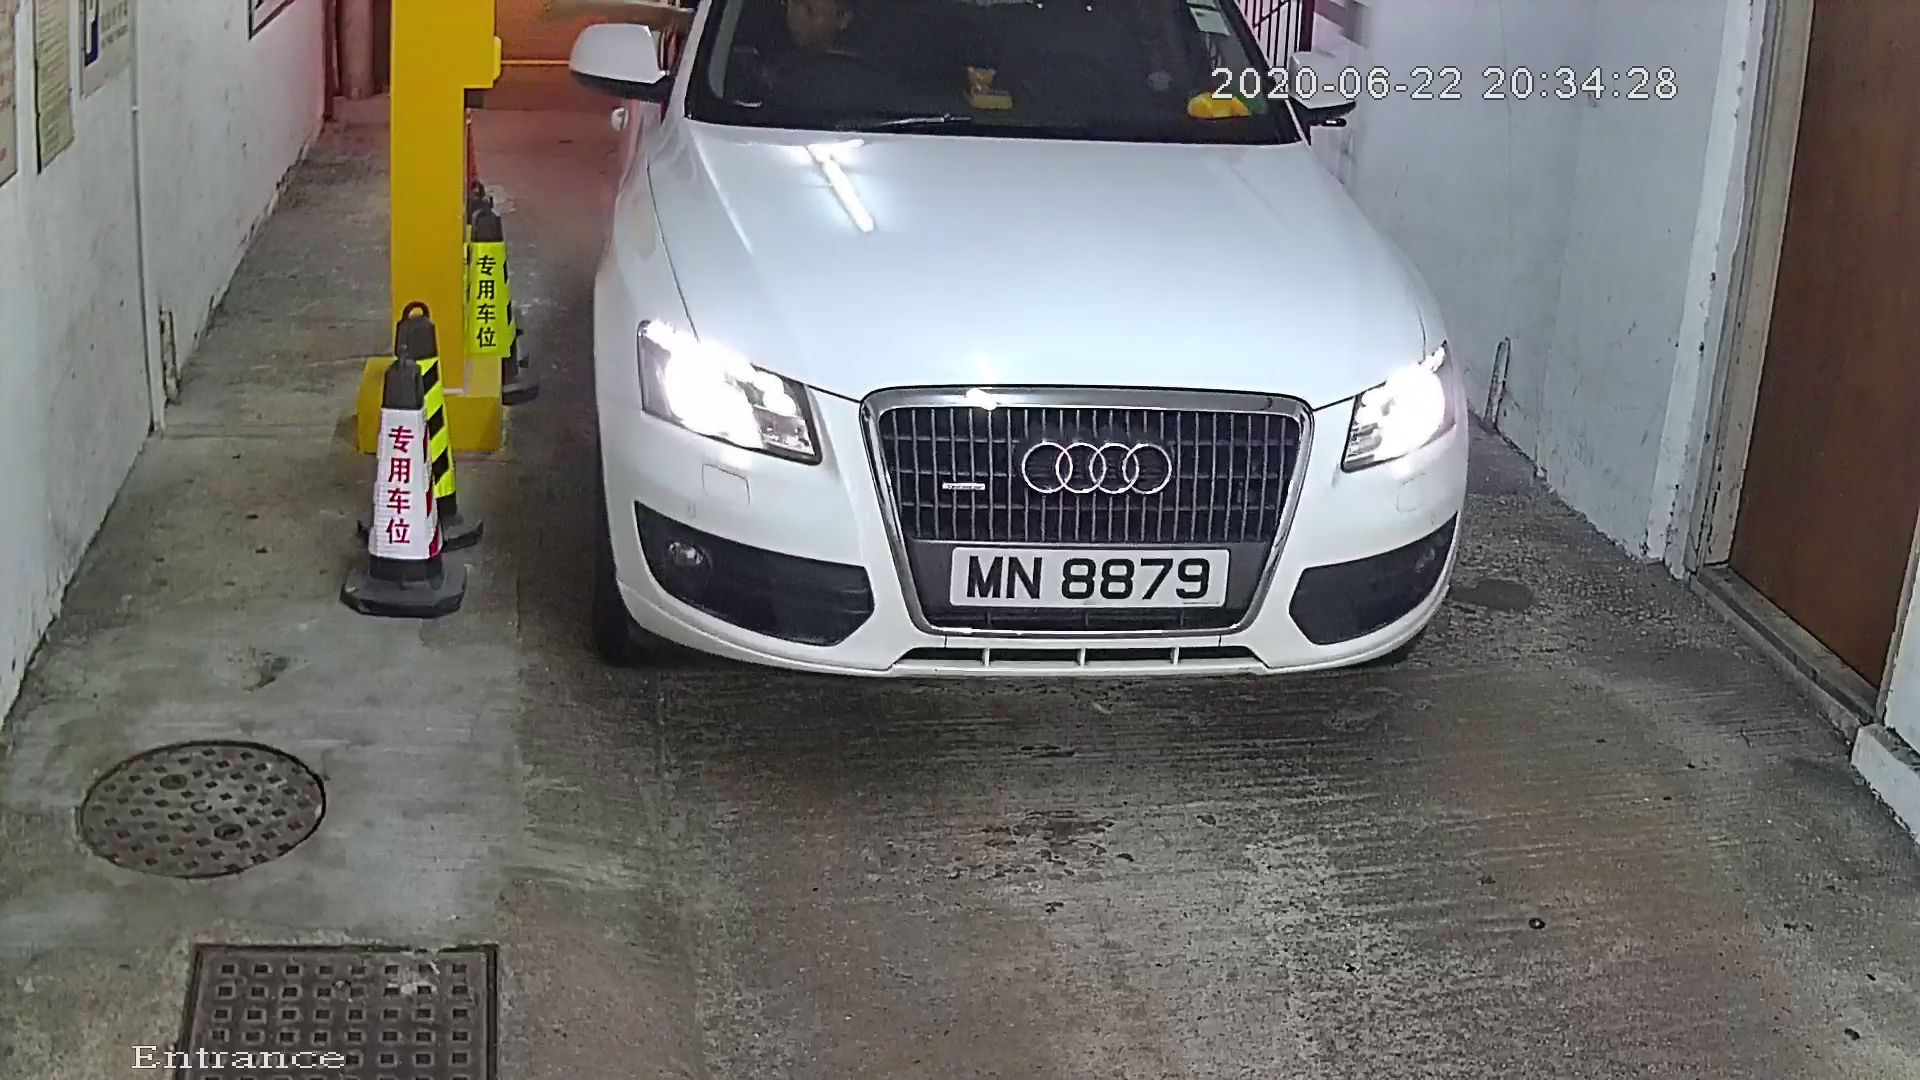privatecar: (524, 1, 1509, 724)
